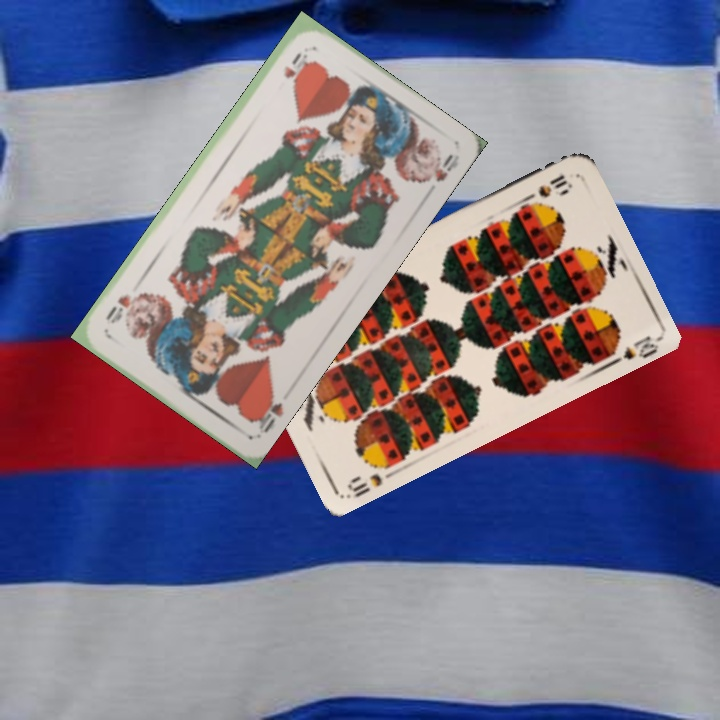HO: (247, 387, 286, 436), (279, 48, 311, 81)
S10: (520, 170, 574, 204), (343, 469, 385, 500)
